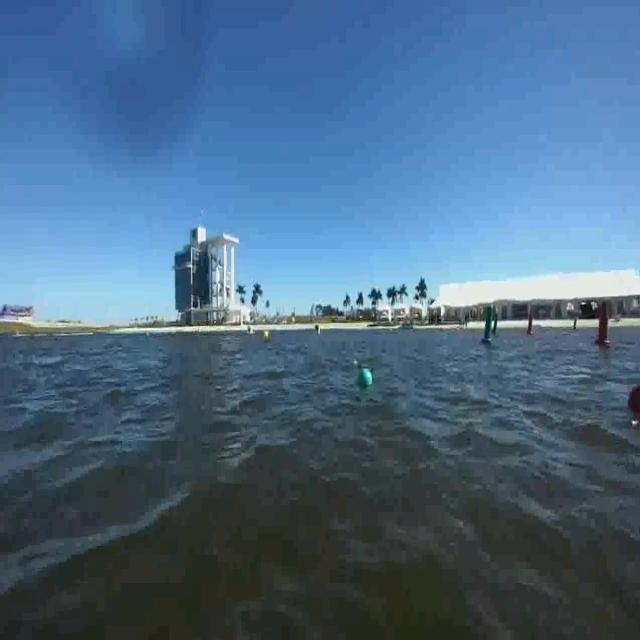green-buoy: (358, 371, 370, 388)
green-column-buoy: (482, 307, 496, 347)
red-column-buoy: (593, 308, 609, 351), (526, 310, 536, 338)
yellow-buoy: (265, 328, 272, 341)
